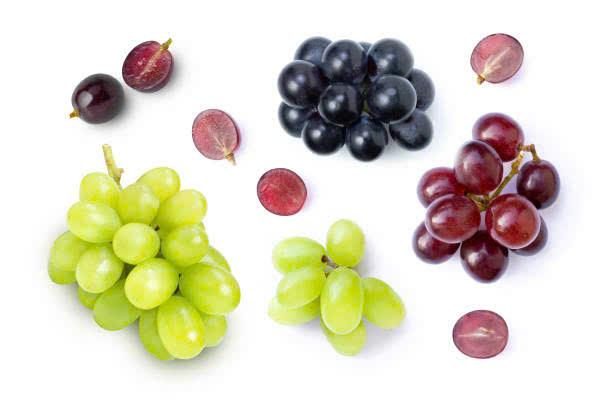grape: (49, 149, 244, 366), (411, 111, 570, 286), (275, 32, 440, 161), (269, 223, 418, 361), (466, 14, 525, 90), (64, 65, 125, 136), (186, 100, 248, 169), (121, 28, 182, 96), (444, 305, 507, 364), (250, 161, 305, 212)
